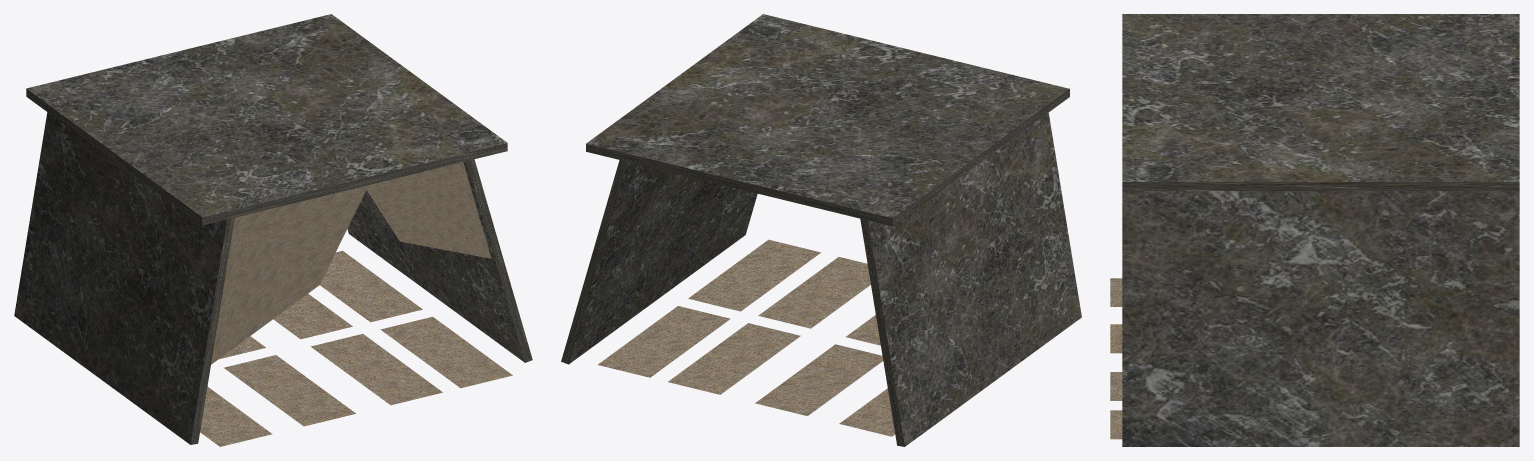
File: dolmen.glb
The picture shows the model from 3 angles, left to right: view 1: azimuth 30°, elevation 25°; view 2: azimuth 150°, elevation 25°; view 3: azimuth 270°, elevation 25°; orthographic projection. The views are drawn at different scales.
Parts seen in each view (by area): view 1: Cube; view 2: Cube; view 3: Cube.
Part boxes in pixels (box(x1,y1,x2,y2)): Cube: box(14, 14, 532, 446); Cube: box(561, 14, 1081, 446); Cube: box(1110, 14, 1519, 446).
Size of the model in its own units: 1.73 by 1.1 by 1.59.
Materials: 2 (2 with a texture image).
